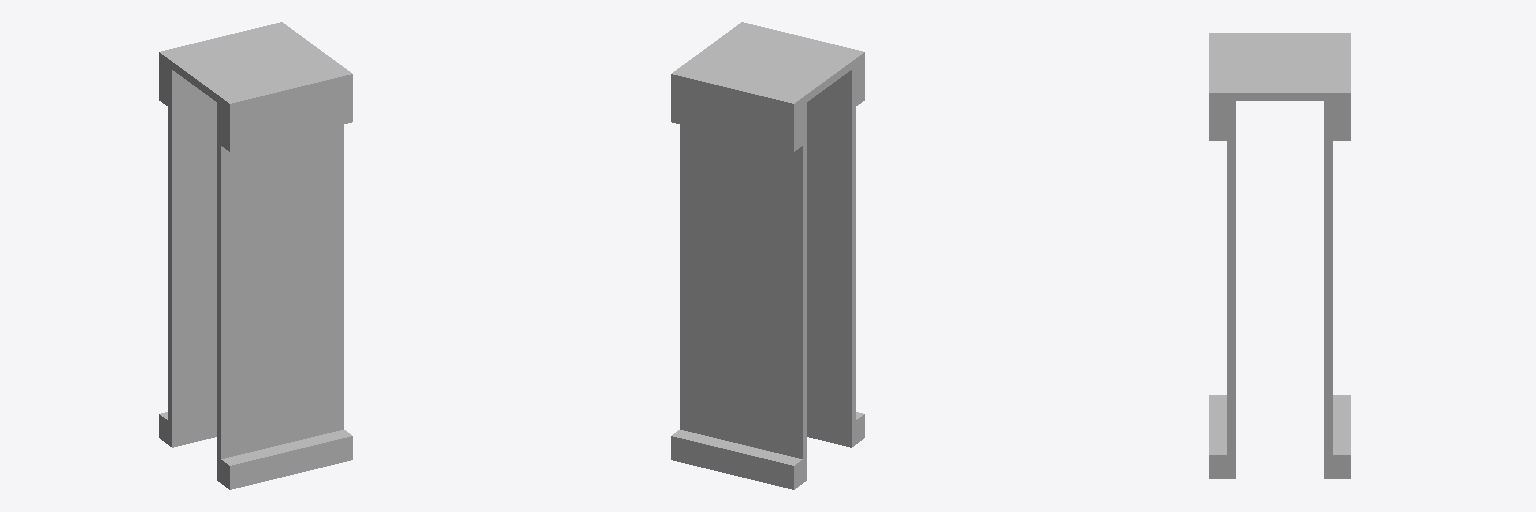
Rendered from Side_A.obj.
3 views of the same model, side by side, from view 1: azimuth 30°, elevation 25°; view 2: azimuth 150°, elevation 25°; view 3: azimuth 270°, elevation 25° (orthographic).
Visible parts, largest first — view 1: object 1; view 2: object 1; view 3: object 1.
Part boxes in pixels (bbox=[...]): object 1: bbox=[159, 22, 352, 489]; object 1: bbox=[671, 22, 864, 489]; object 1: bbox=[1209, 33, 1350, 478].
Bounding box in the file's own units: 1.6 × 4.8 × 1.6.